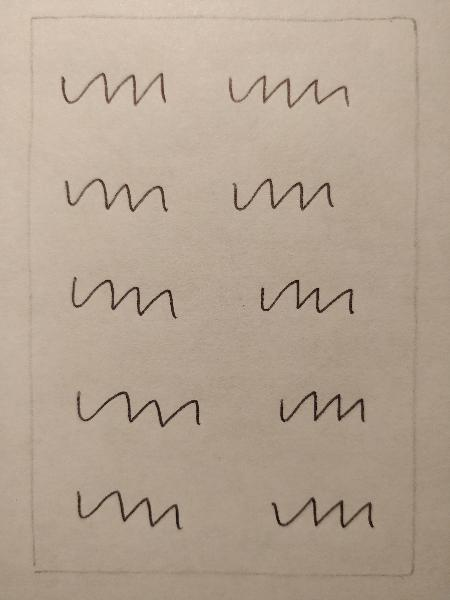text: (67, 379, 210, 445), (255, 483, 382, 547), (64, 479, 195, 540), (57, 269, 187, 328), (219, 64, 356, 119), (52, 168, 175, 226), (248, 270, 358, 328), (221, 170, 344, 221), (54, 64, 173, 113), (270, 381, 370, 435)
